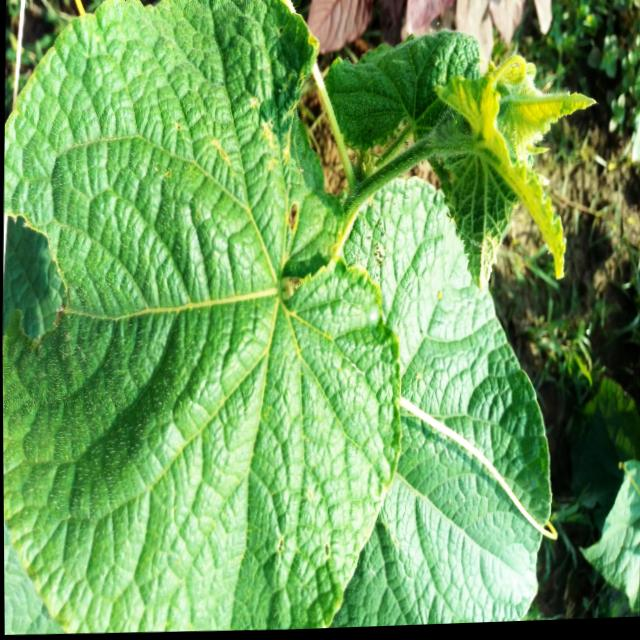Fresh-Leaf: (2, 0, 402, 628), (334, 176, 550, 626)
